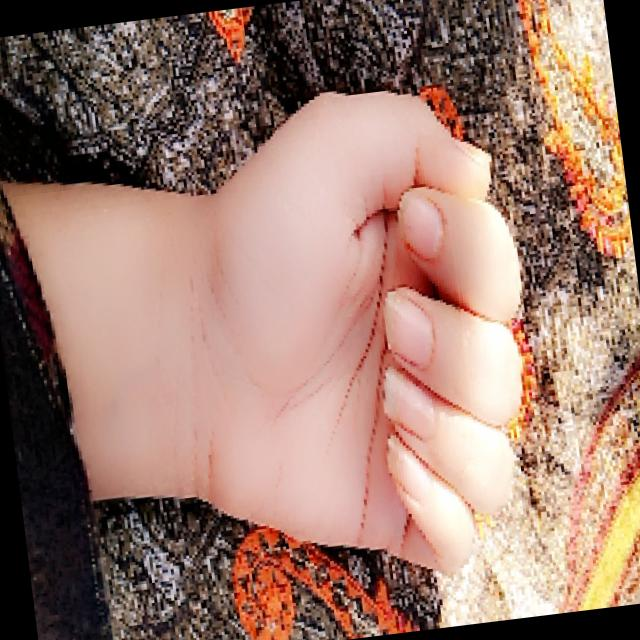Nail: (382, 290, 433, 366), (383, 367, 434, 439), (396, 193, 443, 258), (386, 436, 430, 500), (457, 139, 490, 165)
